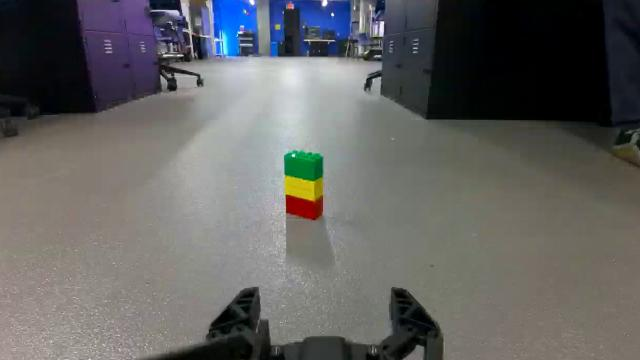lego: (281, 150, 325, 221)
